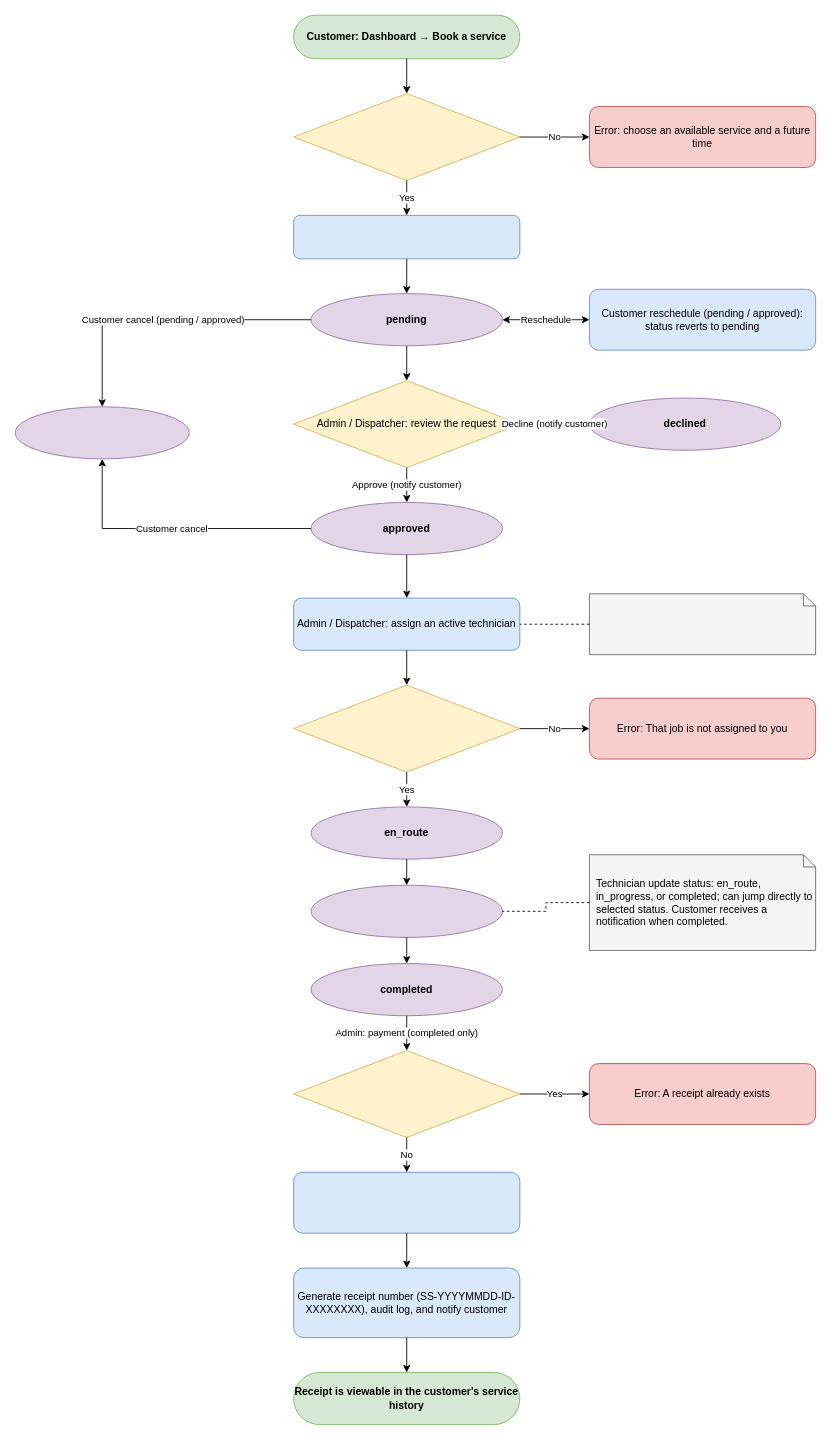
Some shapes in this 831 by 1440 pixel diagram are drawn without their labels. Each missing label, with the centre of its shape:
Admin recordPayment: amount > 0; Cash / Bank Transfer / Card: point 406,1202
Can reschedule an active booking to a future time (adjustSchedule): point 702,624
cancelled: point 101,432
Does a receipt already exist for this booking?: point 406,1094
in_progress: point 406,910
Insert into service_bookings (status = pending): point 406,236
Is the service available and scheduled in the future?: point 406,137
Technician: is this job assigned to them?: point 406,728
